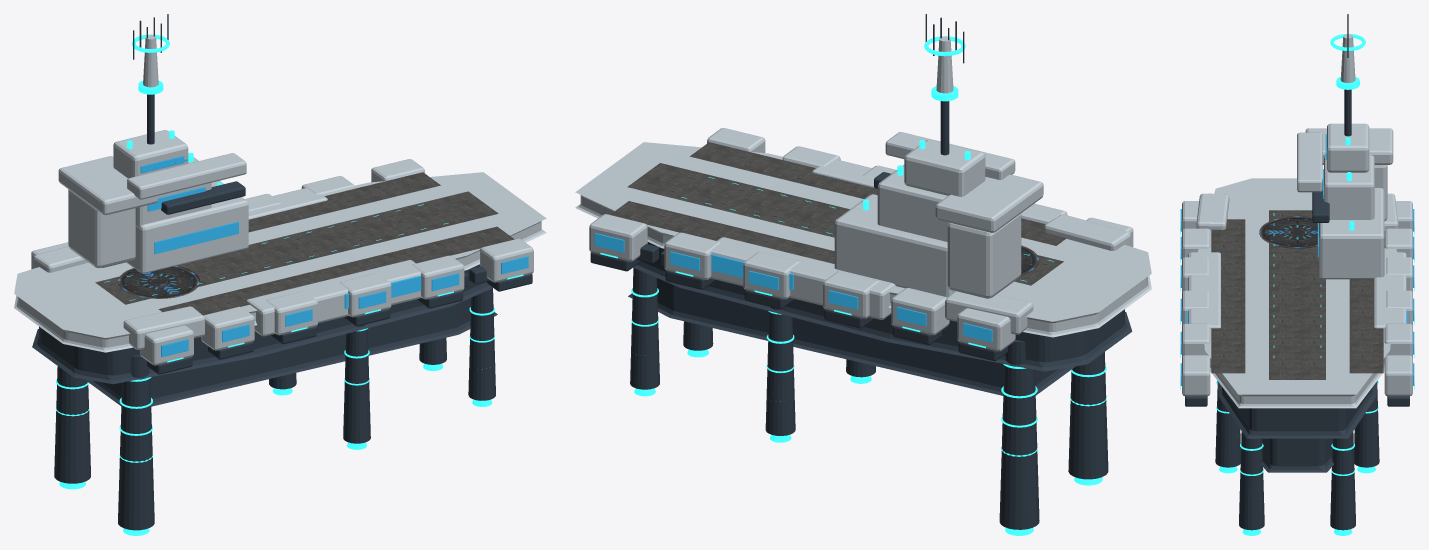
File: vanguard-ozone-base-v2.glb
3 renders of one model, left to right at view 1: azimuth 30°, elevation 25°; view 2: azimuth 150°, elevation 25°; view 3: azimuth 270°, elevation 25°, orthographic. The views are drawn at different scales.
Parts seen in each view (by area): view 1: vanguard_ozone_base_v2__lod0__Vanguard orbital armor, vanguard_ozone_base_v2__lod0__Vanguard structural shadow, vanguard_ozone_base_v2__lod0__Vanguard tiled flight deck, vanguard_ozone_base_v2__lod0__Vanguard recessed glazing, vanguard_ozone_base_v2__lod0__Vanguard emissive guidance, vanguard_ozone_base_v2__lod0__Vanguard tactical mesh overlay; view 2: vanguard_ozone_base_v2__lod0__Vanguard orbital armor, vanguard_ozone_base_v2__lod0__Vanguard structural shadow, vanguard_ozone_base_v2__lod0__Vanguard tiled flight deck, vanguard_ozone_base_v2__lod0__Vanguard emissive guidance, vanguard_ozone_base_v2__lod0__Vanguard recessed glazing; view 3: vanguard_ozone_base_v2__lod0__Vanguard orbital armor, vanguard_ozone_base_v2__lod0__Vanguard structural shadow, vanguard_ozone_base_v2__lod0__Vanguard tiled flight deck, vanguard_ozone_base_v2__lod0__Vanguard emissive guidance, vanguard_ozone_base_v2__lod0__Vanguard tactical mesh overlay, vanguard_ozone_base_v2__lod0__Vanguard recessed glazing.
Part boxes in pixels (bbox=[...]): vanguard_ozone_base_v2__lod0__Vanguard orbital armor: bbox=[14, 35, 546, 365]; vanguard_ozone_base_v2__lod0__Vanguard structural shadow: bbox=[32, 14, 532, 530]; vanguard_ozone_base_v2__lod0__Vanguard tiled flight deck: bbox=[95, 172, 514, 315]; vanguard_ozone_base_v2__lod0__Vanguard recessed glazing: bbox=[140, 156, 528, 357]; vanguard_ozone_base_v2__lod0__Vanguard emissive guidance: bbox=[56, 34, 523, 535]; vanguard_ozone_base_v2__lod0__Vanguard tactical mesh overlay: bbox=[118, 266, 200, 298]; vanguard_ozone_base_v2__lod0__Vanguard orbital armor: bbox=[575, 36, 1151, 351]; vanguard_ozone_base_v2__lod0__Vanguard structural shadow: bbox=[590, 14, 1132, 529]; vanguard_ozone_base_v2__lod0__Vanguard tiled flight deck: bbox=[610, 142, 1066, 285]; vanguard_ozone_base_v2__lod0__Vanguard emissive guidance: bbox=[600, 36, 1106, 535]; vanguard_ozone_base_v2__lod0__Vanguard recessed glazing: bbox=[594, 233, 992, 342]; vanguard_ozone_base_v2__lod0__Vanguard orbital armor: bbox=[1182, 34, 1412, 408]; vanguard_ozone_base_v2__lod0__Vanguard structural shadow: bbox=[1185, 14, 1409, 530]; vanguard_ozone_base_v2__lod0__Vanguard tiled flight deck: bbox=[1211, 210, 1383, 379]; vanguard_ozone_base_v2__lod0__Vanguard emissive guidance: bbox=[1180, 34, 1414, 535]; vanguard_ozone_base_v2__lod0__Vanguard tactical mesh overlay: bbox=[1259, 216, 1317, 248]; vanguard_ozone_base_v2__lod0__Vanguard recessed glazing: bbox=[1180, 134, 1414, 385].
Bounding box in the file's own units: 830 × 750 × 380.
Materials: 6 (2 with a texture image).
